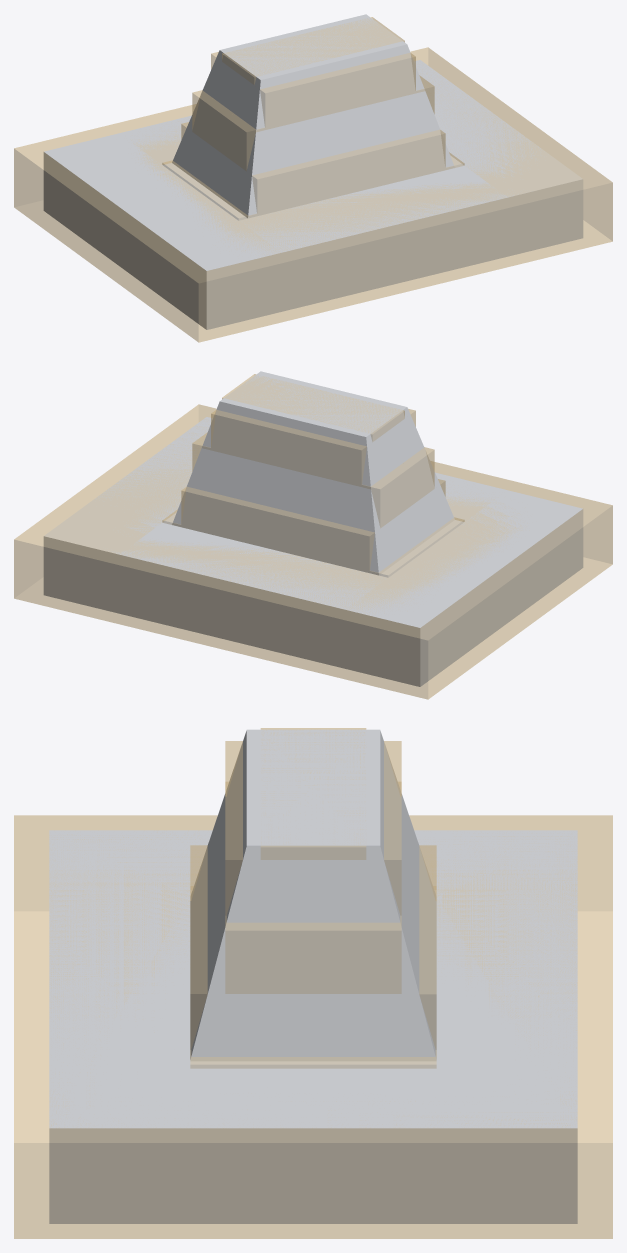
Rendered from boss.cam.glb.
3 renders of one model, top to bottom at view 1: azimuth 30°, elevation 25°; view 2: azimuth 150°, elevation 25°; view 3: azimuth 270°, elevation 25°, orthographic. The views are drawn at different scales.
Parts seen in each view (by area): view 1: part, stock; view 2: part, stock; view 3: part, stock.
Boxes of the visible parts, box(x1,y1,x2,y2) form: part: box(43, 14, 583, 329); stock: box(14, 17, 612, 342); part: box(43, 371, 583, 686); stock: box(14, 374, 612, 699); part: box(49, 729, 577, 1223); stock: box(14, 728, 612, 1238).
Size of the model in its own units: 0.022 by 0.009 by 0.017.
